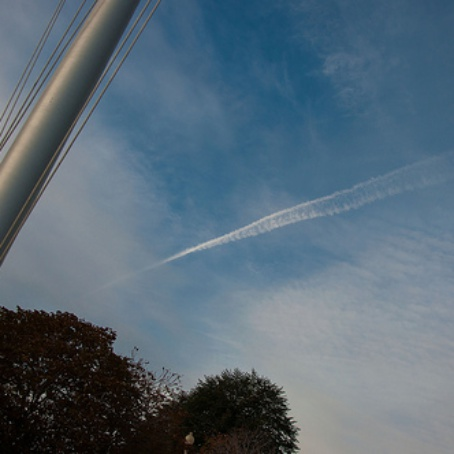sky: (113, 1, 454, 377)
tree: (1, 306, 133, 454), (126, 364, 311, 454)
